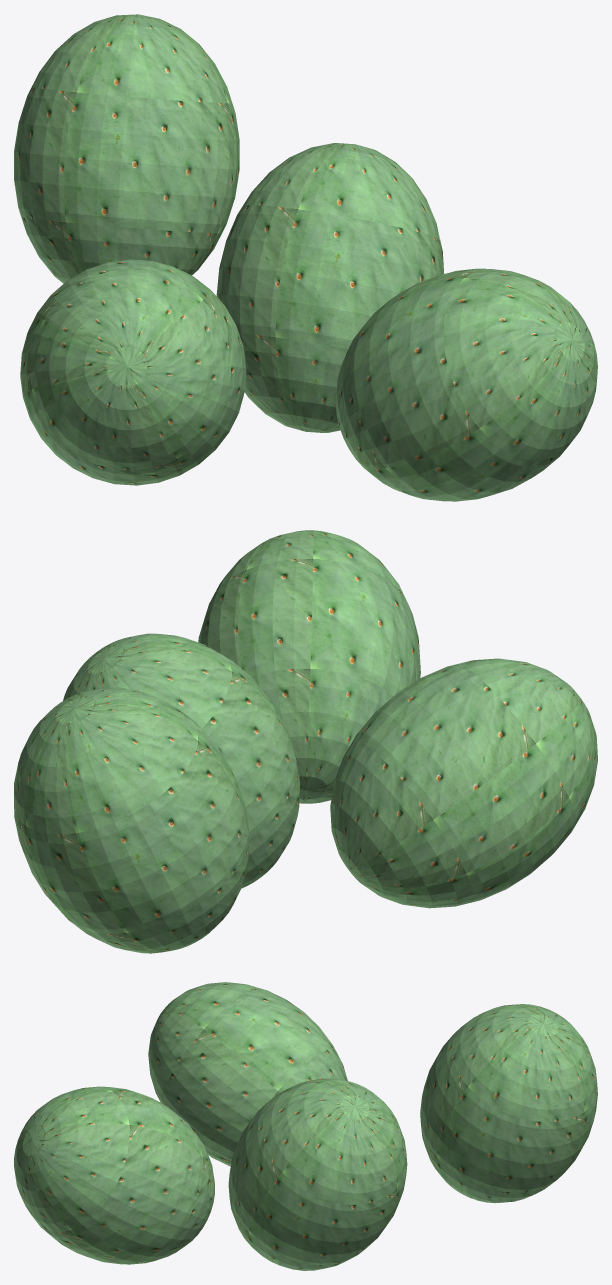
File: Tunas.obj
3 views of the same model, one above another, from view 1: azimuth 30°, elevation 25°; view 2: azimuth 150°, elevation 25°; view 3: azimuth 270°, elevation 25° (orthographic). The views are drawn at different scales.
Parts seen in each view (by area): view 1: Esfera.027_Material.013; view 2: Esfera.027_Material.013; view 3: Esfera.027_Material.013.
Part boxes in pixels (box(x1,y1,x2,y2)): Esfera.027_Material.013: box(14, 14, 597, 501); Esfera.027_Material.013: box(14, 530, 597, 953); Esfera.027_Material.013: box(14, 982, 597, 1270).
Bounding box in the file's own units: 0.2366 × 0.1537 × 0.3466.
Materials: 1 (1 with a texture image).
